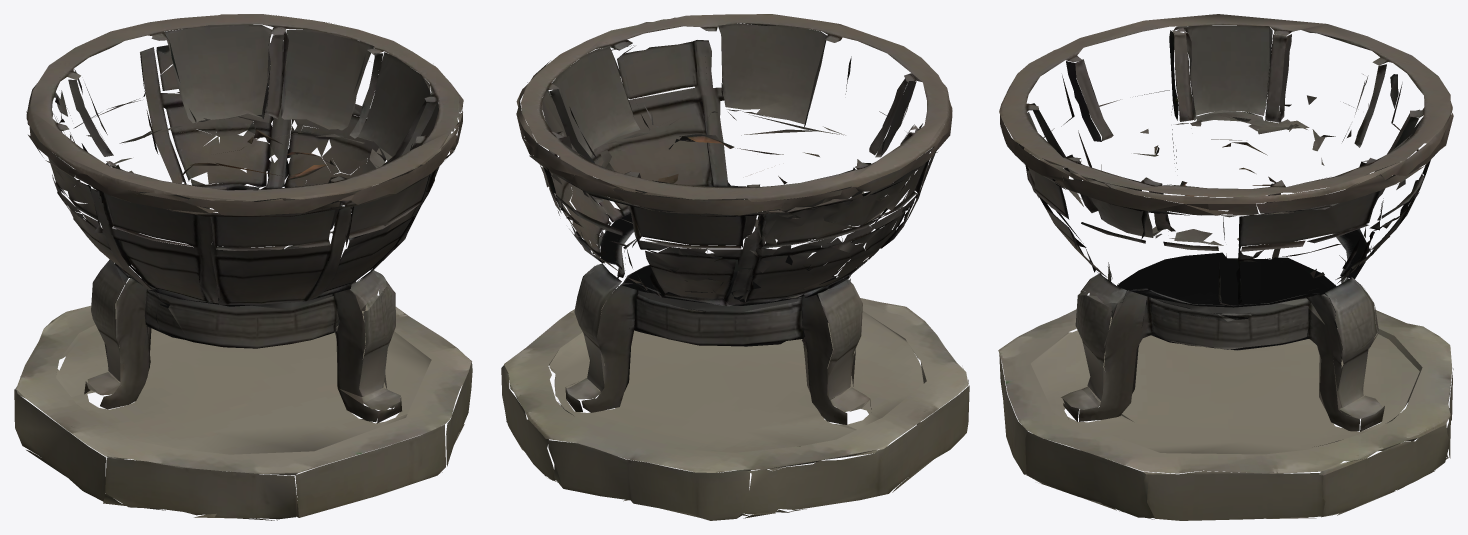
Rendered from ironBrazier.glb.
3 renders of one model, left to right at view 1: azimuth 30°, elevation 25°; view 2: azimuth 150°, elevation 25°; view 3: azimuth 270°, elevation 25°, orthographic.
Parts seen in each view (by area): view 1: Prop_ironBrazier; view 2: Prop_ironBrazier; view 3: Prop_ironBrazier.
Boxes of the visible parts, <box> form: Prop_ironBrazier: <box>14,14,472,520</box>; Prop_ironBrazier: <box>501,14,969,520</box>; Prop_ironBrazier: <box>998,14,1453,520</box>.
Bounding box in the file's own units: 1.97 × 1.6 × 2.03.
1 material, 1 textured.
